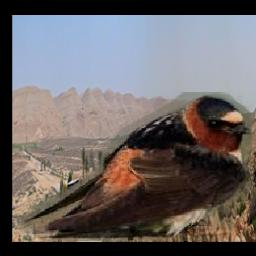Swallow: (22, 92, 253, 241)
